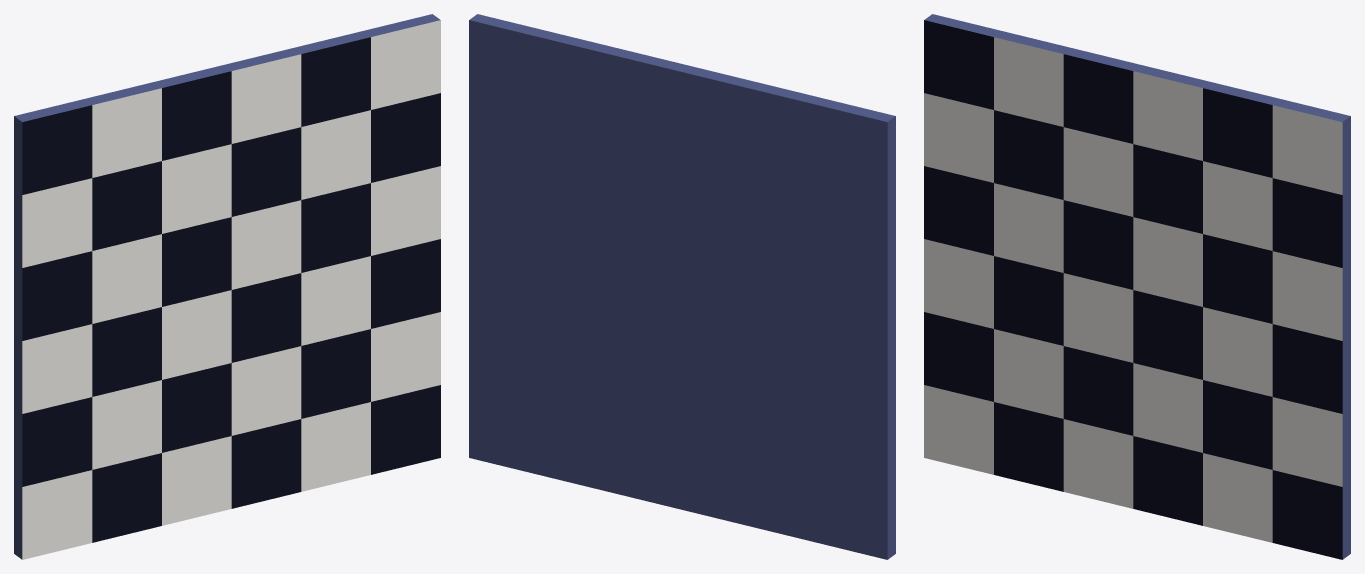
The model's file is BathroomWallToHallway.fbx.
3 renders of one model, left to right at view 1: azimuth 30°, elevation 25°; view 2: azimuth 150°, elevation 25°; view 3: azimuth 330°, elevation 25°, orthographic.
Visible parts, largest first — view 1: Cube; view 2: Cube; view 3: Cube.
Boxes of the visible parts, left/top/right/bottom form: Cube: left=14, top=14, right=440, bottom=559; Cube: left=469, top=14, right=895, bottom=559; Cube: left=924, top=14, right=1350, bottom=559.
Bounding box in the file's own units: 2900 × 100 × 2900.
1 material, 1 textured.
